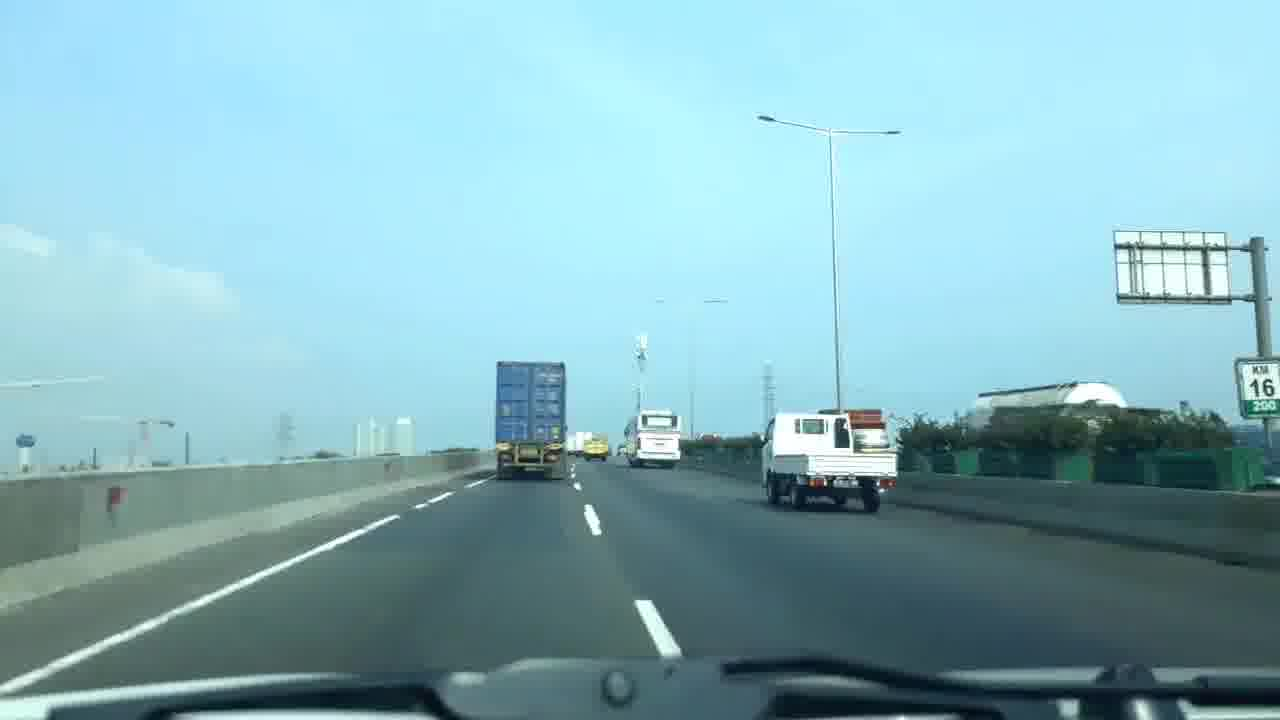plate_positive: (832, 478, 857, 488), (520, 448, 538, 455)
